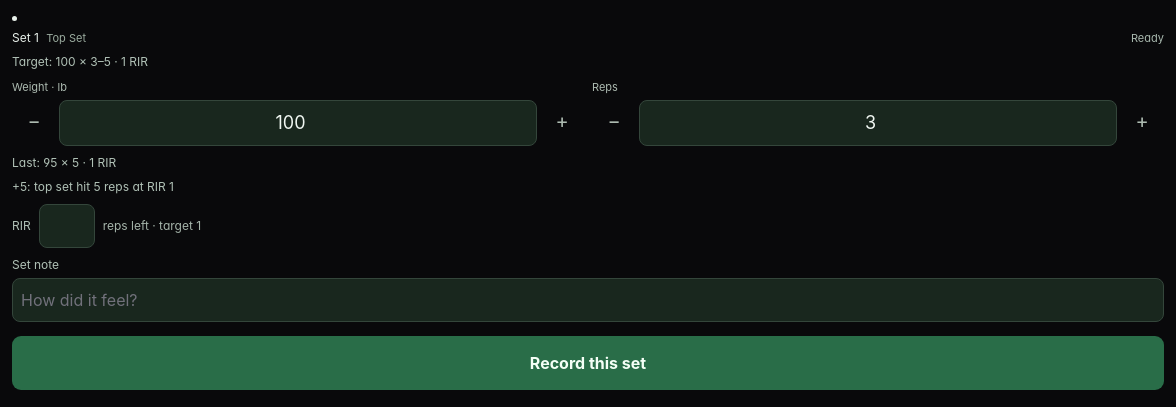
Test: SetRow component › weight steps by the machine increment, with no keyboard
Step 1. Click the button named "More weight" → {"x": 562, "y": 120}, box [540, 98, 584, 142]
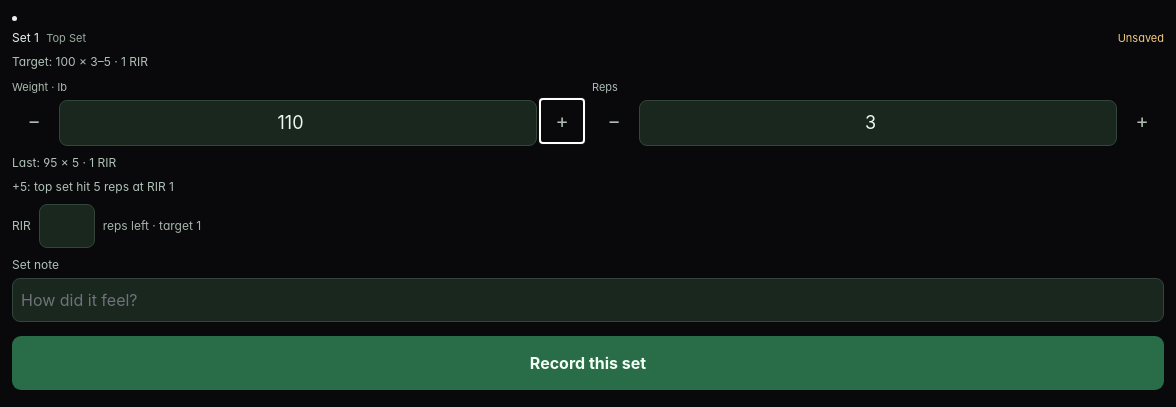
Step 2. Click the button named "Less weight" → {"x": 34, "y": 120}, box [12, 98, 56, 142]
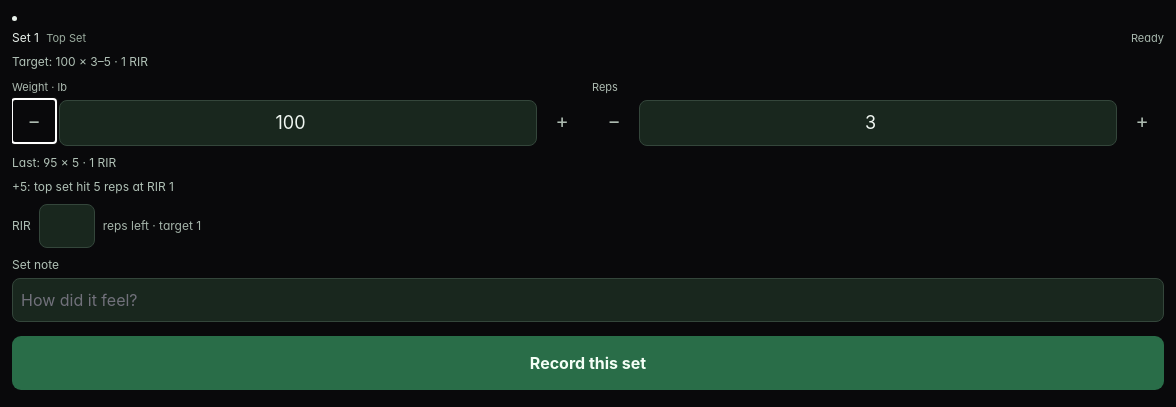
Step 3. Click the button named "Less weight" → {"x": 34, "y": 120}, box [12, 98, 56, 142]
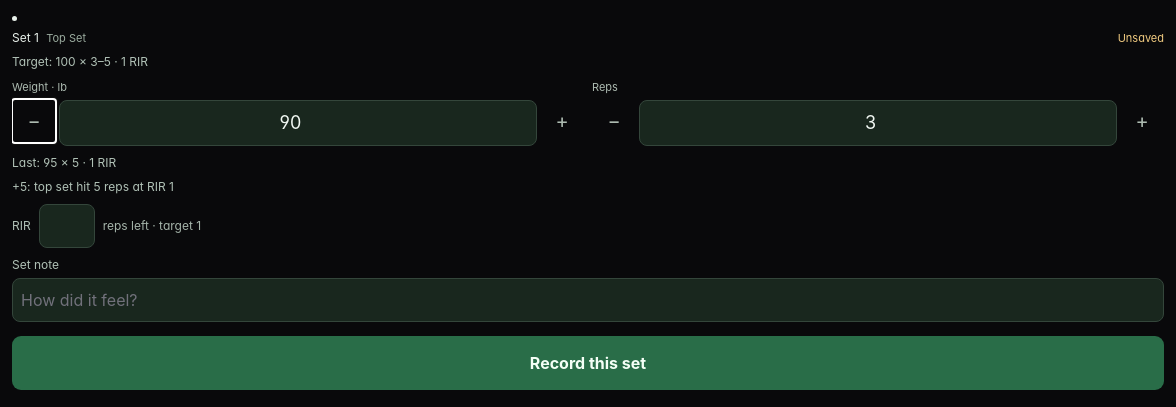
Check: the text "Unsaved" is shown, box [1118, 30, 1164, 46]
